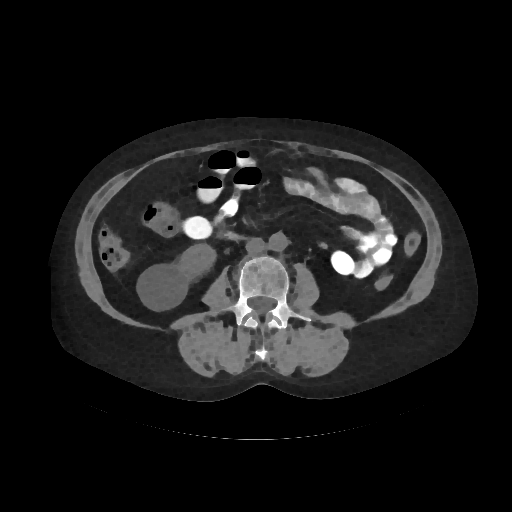Lesion: (132, 263, 188, 315)
